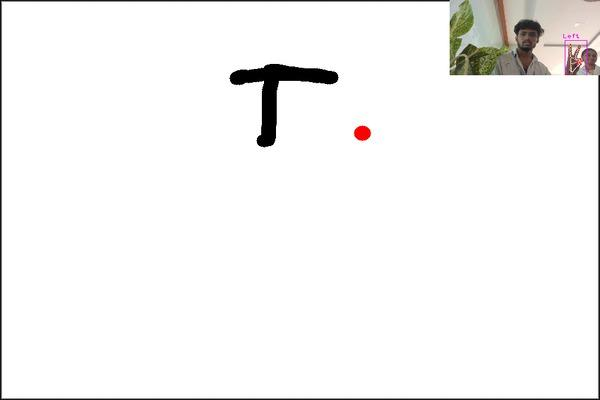T: (223, 62, 341, 148)
